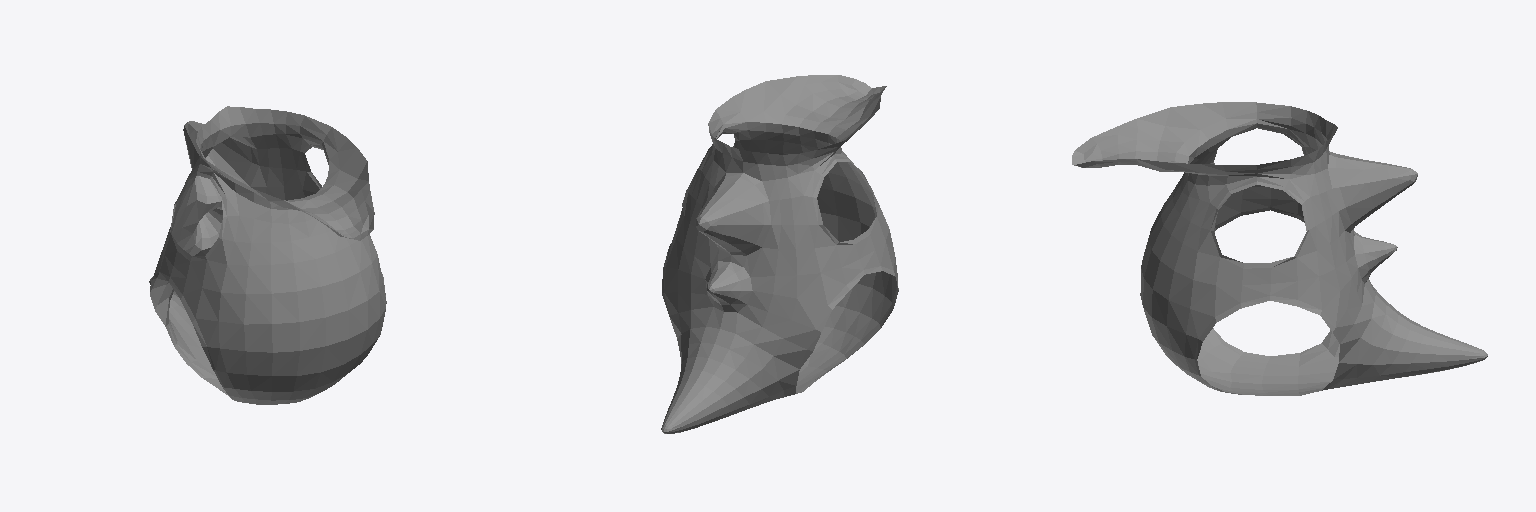
The model's file is Torso.obj.
3 renders of one model, left to right at view 1: azimuth 30°, elevation 25°; view 2: azimuth 150°, elevation 25°; view 3: azimuth 270°, elevation 25°, orthographic.
Parts seen in each view (by area): view 1: Cubone; view 2: Cubone; view 3: Cubone.
Part boxes in pixels (x1,y1,x2,y2): Cubone: (149,106,386,404); Cubone: (661,75,898,433); Cubone: (1072,102,1487,395).
Size of the model in its own units: 444 by 568 by 838.